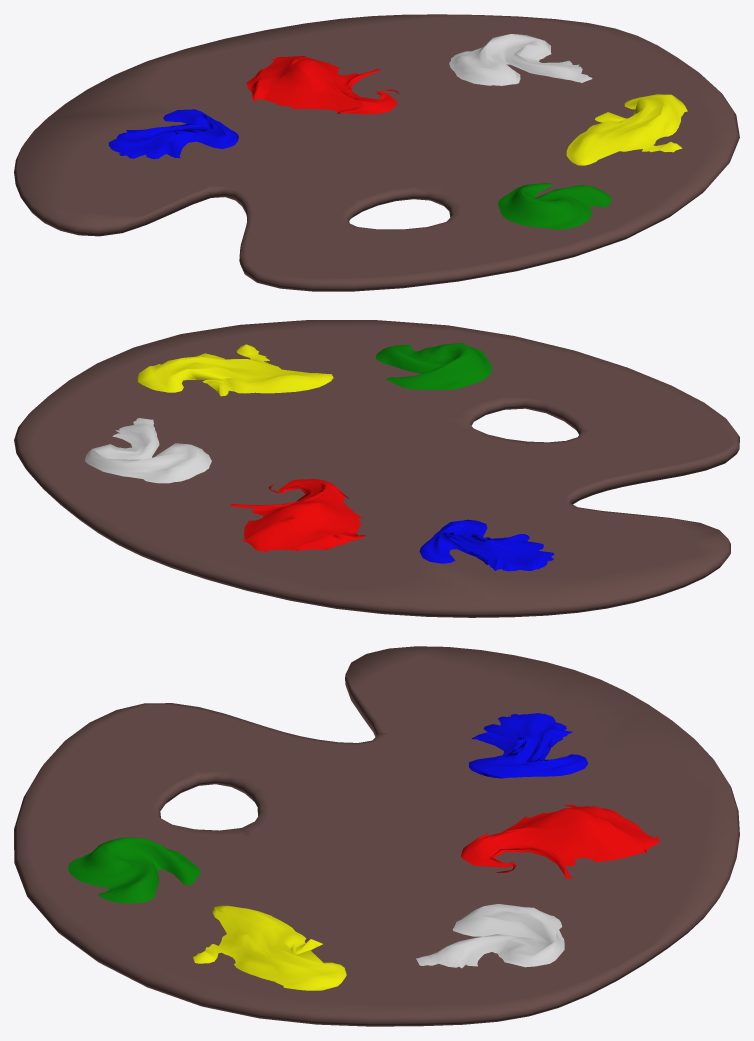
Rendered from PaintPalette_MPI01_fbx.fbx.
3 renders of one model, top to bottom at view 1: azimuth 30°, elevation 25°; view 2: azimuth 150°, elevation 25°; view 3: azimuth 270°, elevation 25°, orthographic. The views are drawn at different scales.
Visible parts, largest first — view 1: Plane; view 2: Plane; view 3: Plane.
Boxes of the visible parts, left/top/right/bottom form: Plane: left=14, top=14, right=739, bottom=291; Plane: left=14, top=320, right=739, bottom=617; Plane: left=14, top=646, right=739, bottom=1026.
Bounding box in the file's own units: 18.52 × 0.8304 × 15.23.
